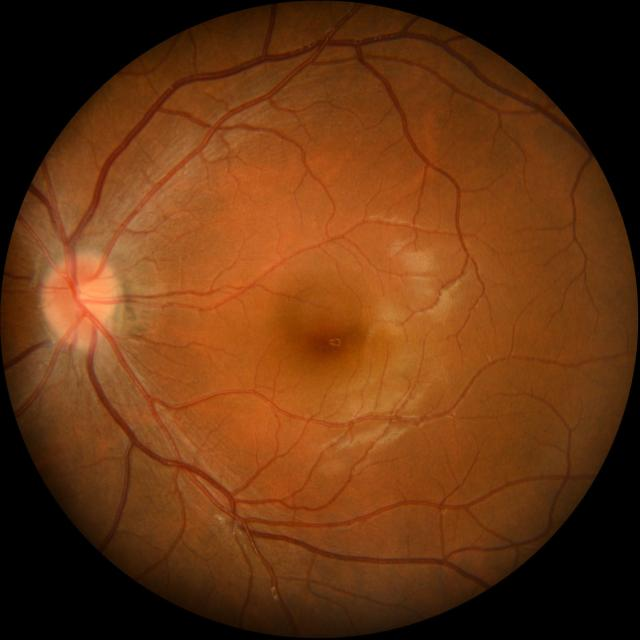OC: (73, 282, 97, 310)
OD: (45, 255, 114, 343)
